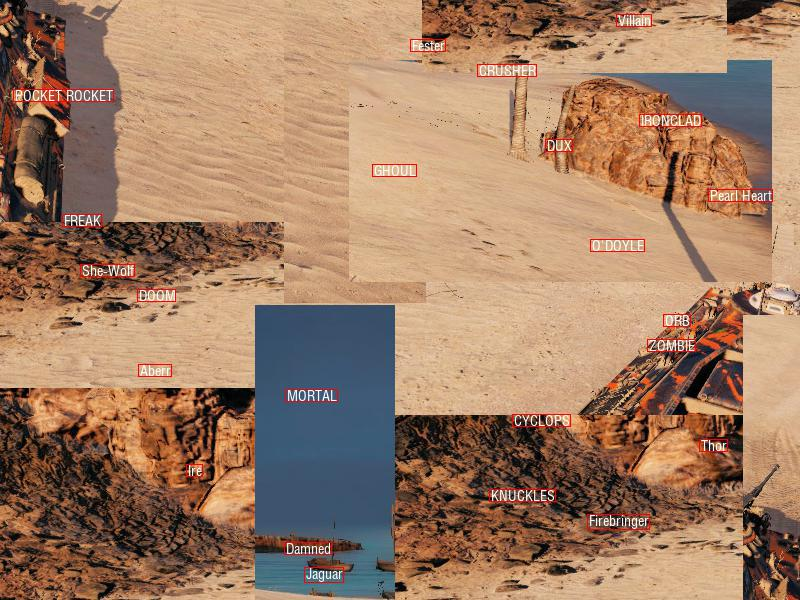line: (14, 90, 112, 100), (588, 515, 648, 528), (490, 490, 554, 500), (709, 190, 771, 200), (640, 115, 700, 125), (478, 65, 535, 75), (513, 415, 569, 425), (591, 240, 643, 250), (81, 265, 133, 275), (286, 390, 336, 400), (305, 568, 342, 581), (648, 340, 694, 350), (285, 543, 330, 553), (373, 165, 415, 175), (63, 215, 100, 225), (138, 290, 174, 300), (617, 15, 650, 25), (411, 40, 444, 50), (139, 365, 170, 375), (700, 440, 726, 450), (546, 140, 571, 150), (664, 315, 689, 325), (187, 465, 201, 475)
